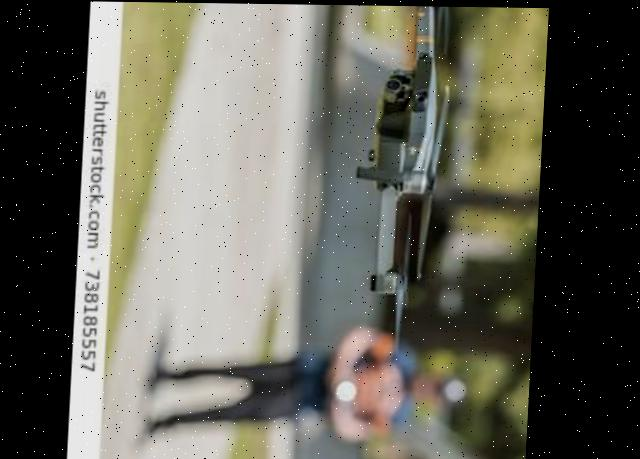drone: (338, 4, 470, 359)
